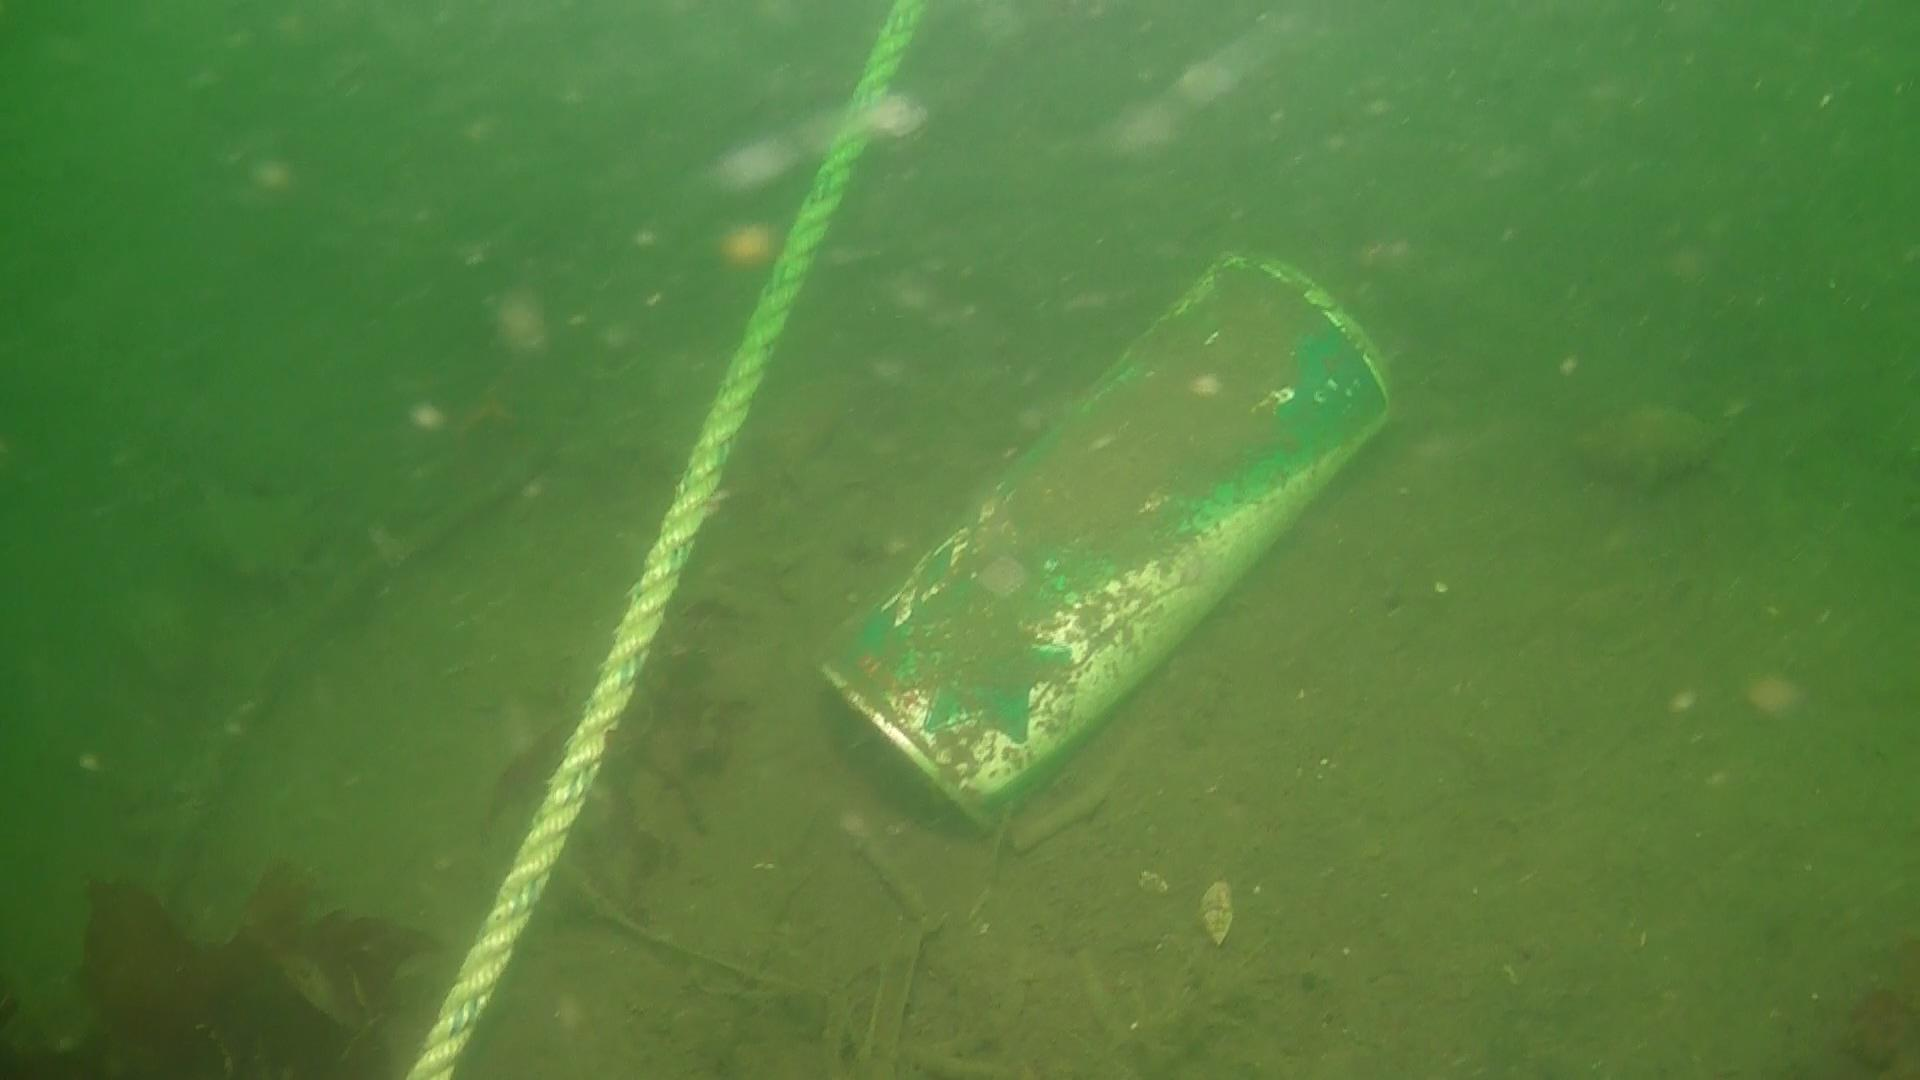rope: (405, 0, 934, 1080)
